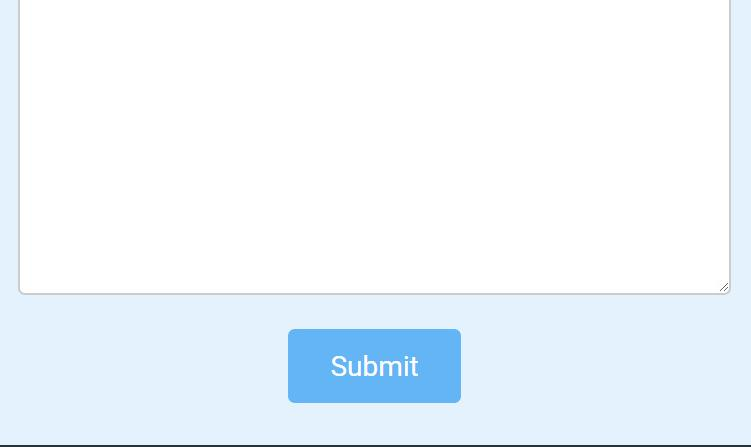button: (284, 327, 463, 407)
